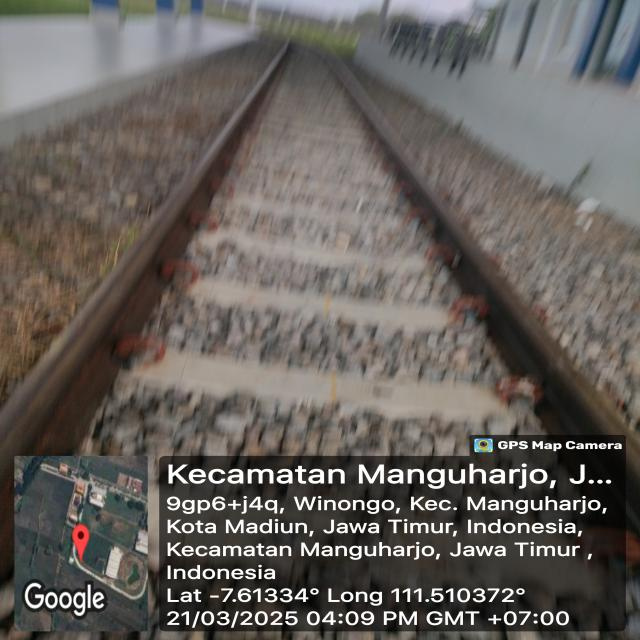rail-detection: (0, 42, 304, 585), (309, 50, 640, 524)
